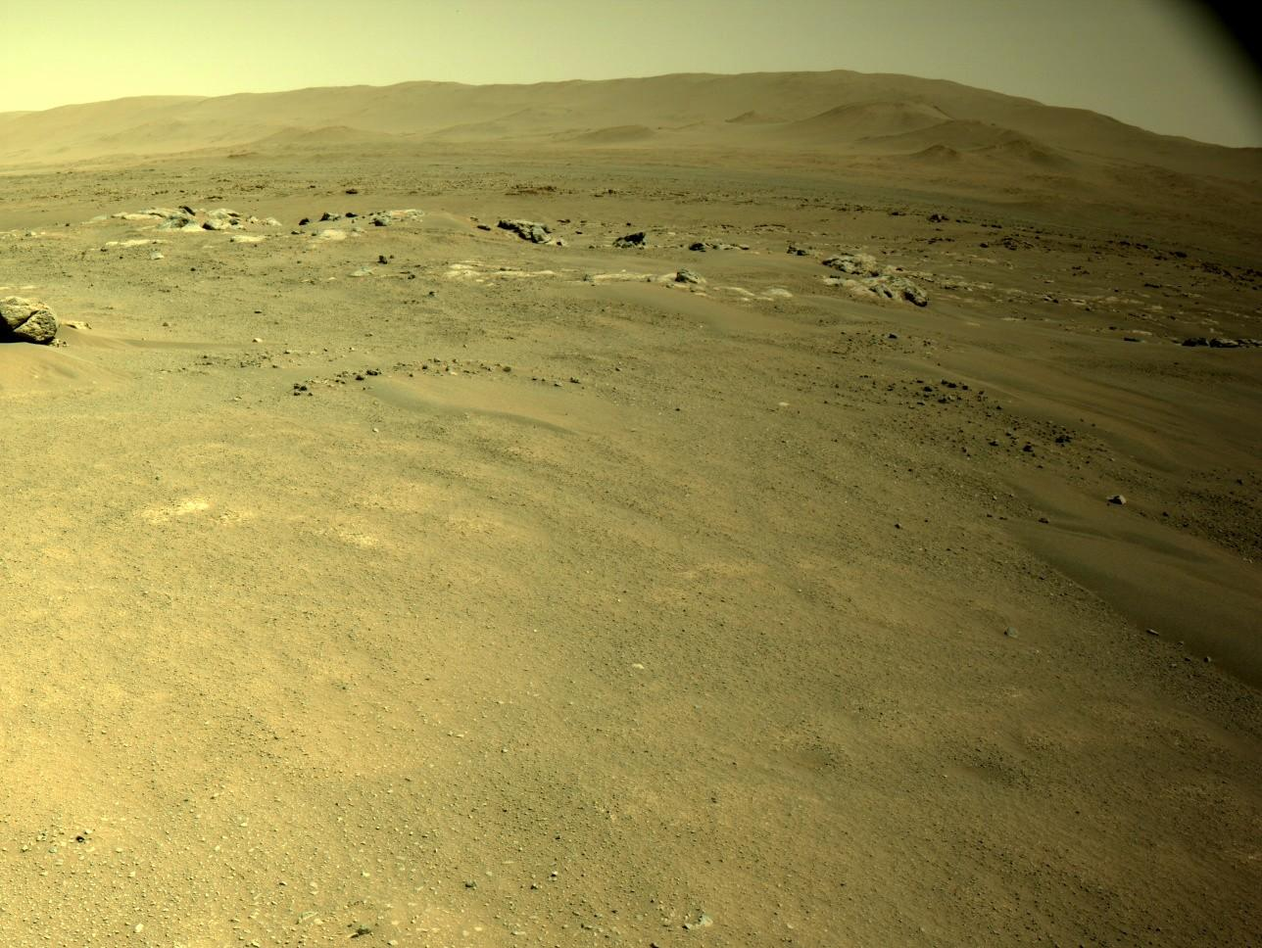bedrock: (5, 183, 1258, 355)
big_rock: (5, 76, 1254, 200), (0, 240, 79, 358), (64, 305, 72, 316), (50, 255, 56, 256)
sand: (987, 326, 1114, 342), (990, 344, 1075, 363), (1249, 568, 1253, 663), (1056, 368, 1082, 372), (1246, 379, 1249, 406), (954, 329, 979, 332)
soil: (1, 253, 1261, 947), (16, 152, 1260, 262)
